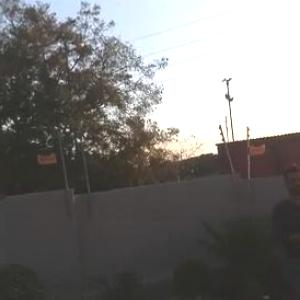follow: (268, 162, 300, 299)
